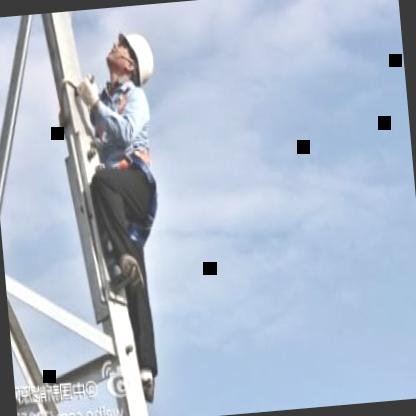helmet: (100, 31, 158, 91)
